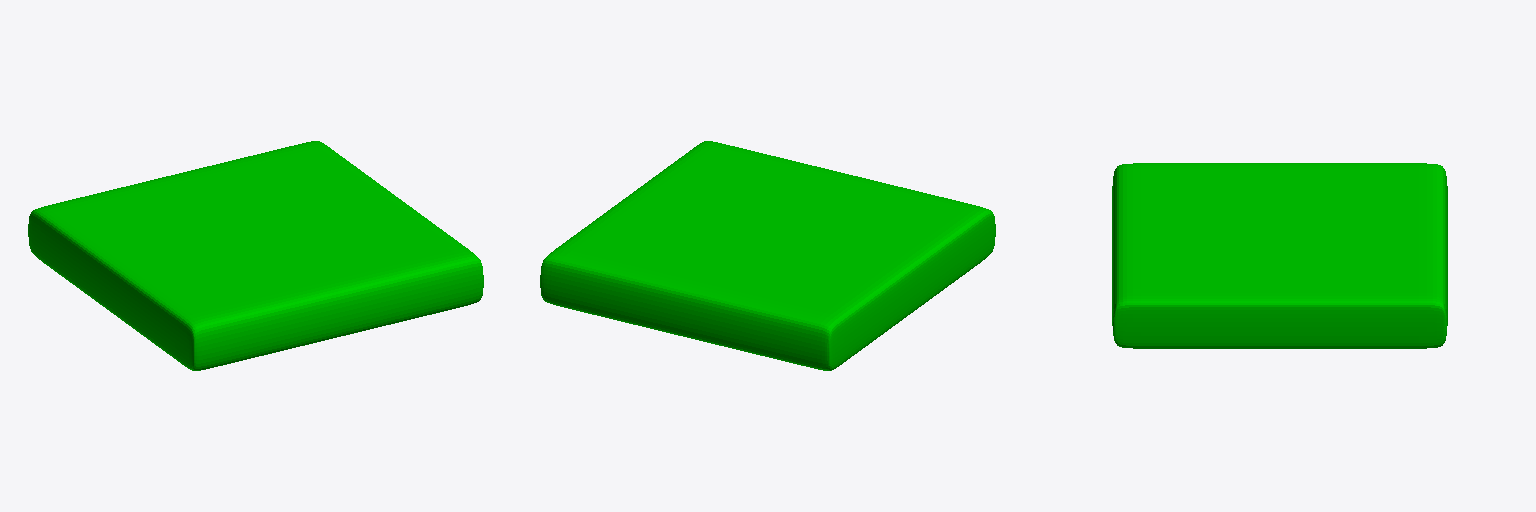
File: cubeSuccess.obj
3 renders of one model, left to right at view 1: azimuth 30°, elevation 25°; view 2: azimuth 150°, elevation 25°; view 3: azimuth 270°, elevation 25°, orthographic.
Parts seen in each view (by area): view 1: Cube; view 2: Cube; view 3: Cube.
Part boxes in pixels (bbox=[...]): Cube: bbox=[28, 141, 483, 370]; Cube: bbox=[540, 141, 995, 370]; Cube: bbox=[1112, 163, 1447, 348].
Bounding box in the file's own units: 2 × 0.3275 × 1.99.